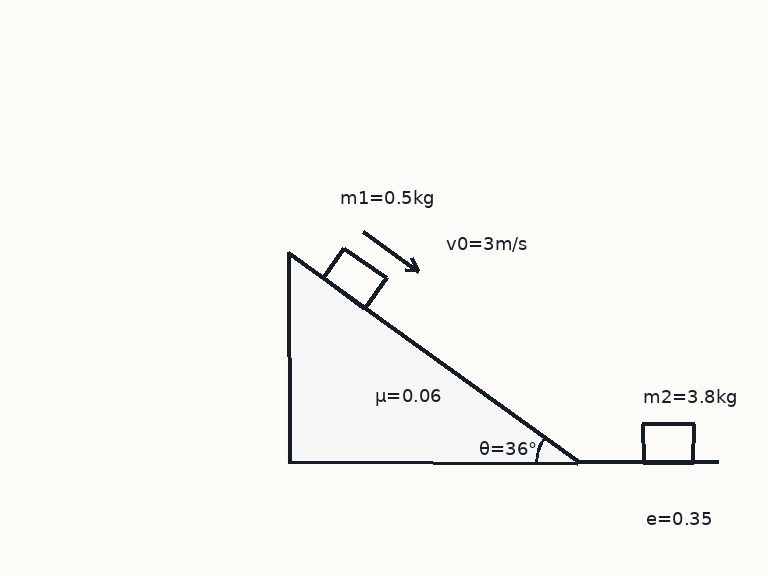block: (320, 246, 388, 310), (640, 423, 696, 464)
ramp: (286, 251, 578, 464)
